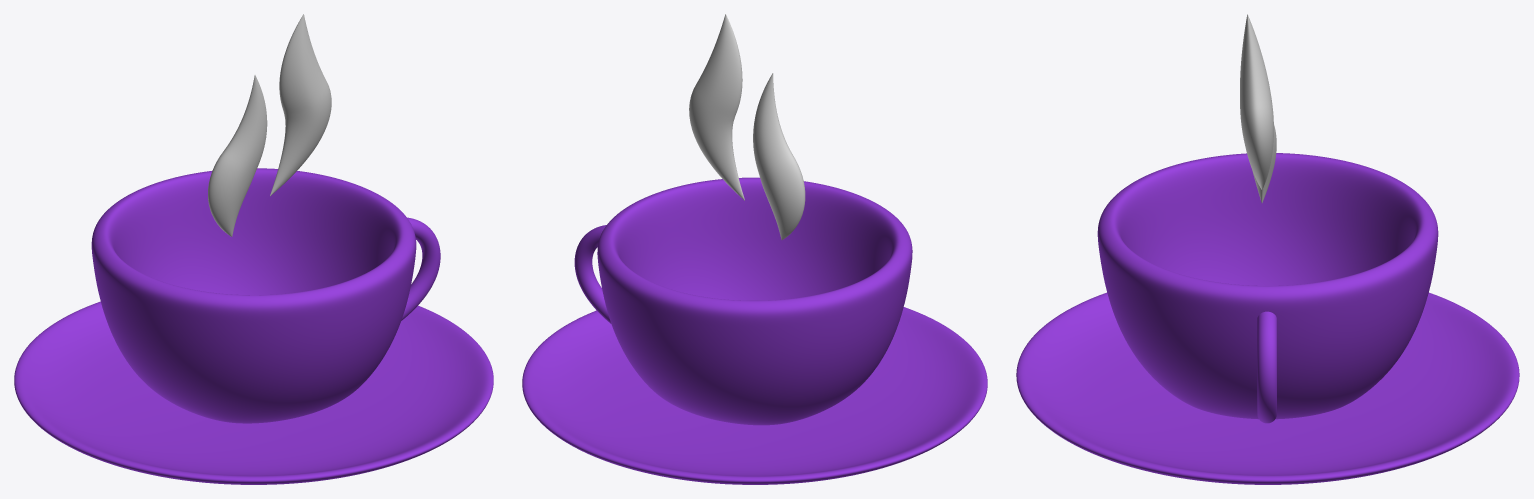
Rendered from tea.fbx.
3 renders of one model, left to right at view 1: azimuth 30°, elevation 25°; view 2: azimuth 150°, elevation 25°; view 3: azimuth 270°, elevation 25°, orthographic. The views are drawn at different scales.
Visible parts, largest first — view 1: Tea; view 2: Tea; view 3: Tea.
Part boxes in pixels (x1=…): Tea: x1=14, y1=14, x2=493, y2=484; Tea: x1=522, y1=14, x2=987, y2=484; Tea: x1=1016, y1=14, x2=1519, y2=484.
Size of the model in its own units: 205 by 182 by 205.
